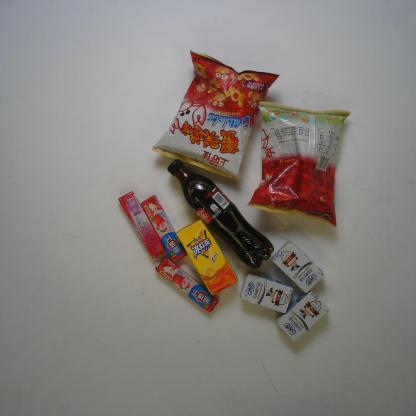Candy: (155, 256, 219, 314), (141, 195, 189, 263), (118, 191, 166, 259)
Drink: (166, 158, 275, 271), (176, 218, 239, 298)
Milk: (272, 240, 325, 294), (276, 290, 330, 343), (240, 272, 293, 313)
Puffed Food: (150, 48, 281, 184), (247, 100, 351, 228)
